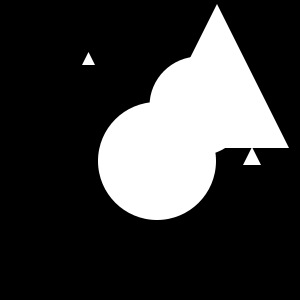rectangle: (98, 102, 216, 220), (150, 56, 248, 156)
triangle: (145, 4, 289, 148), (243, 147, 261, 165), (82, 52, 95, 65)
